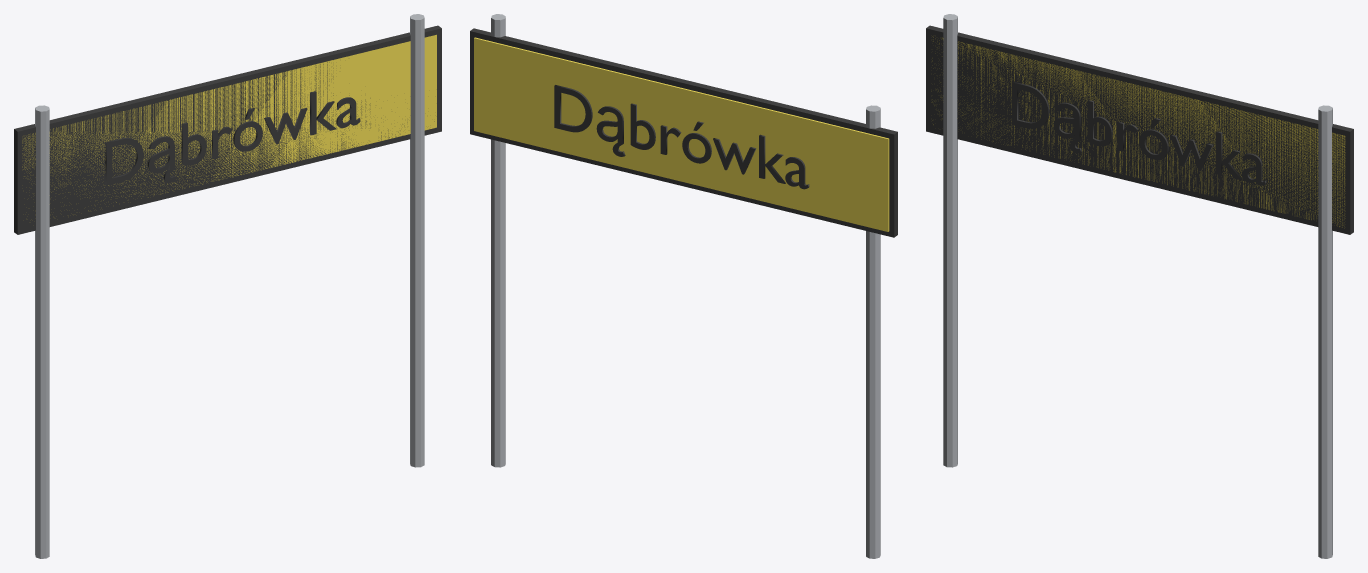
File: Tablica_Dabrowka.fbx
The picture shows the model from 3 angles, left to right: view 1: azimuth 30°, elevation 25°; view 2: azimuth 150°, elevation 25°; view 3: azimuth 330°, elevation 25°; orthographic projection.
Parts seen in each view (by area): view 1: Tablica_Dabrowka; view 2: Tablica_Dabrowka; view 3: Tablica_Dabrowka.
Part boxes in pixels (x1,y1,x2,y2): Tablica_Dabrowka: [14, 14, 441, 558]; Tablica_Dabrowka: [470, 14, 897, 558]; Tablica_Dabrowka: [926, 14, 1353, 558].
Bounding box in the file's own units: 2.58 × 2.6 × 0.108.
